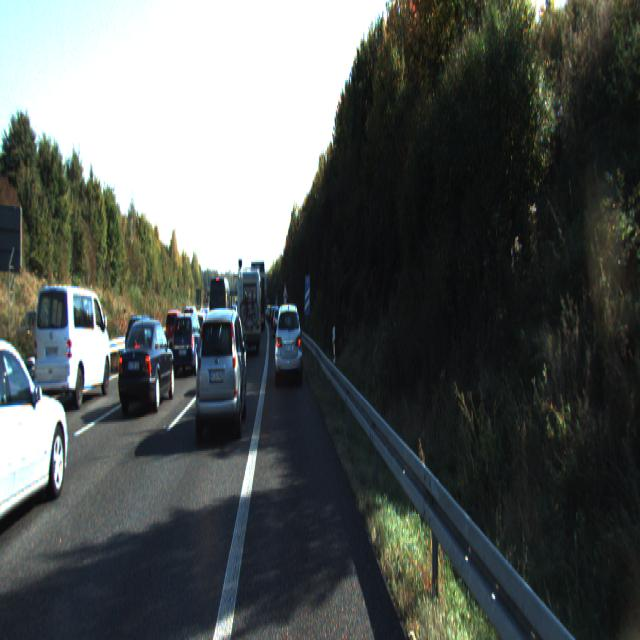Car: (0, 328, 72, 544), (31, 281, 112, 412), (192, 306, 248, 445), (117, 316, 176, 416), (274, 300, 303, 386), (218, 314, 248, 391), (171, 313, 204, 380), (124, 315, 159, 373), (237, 266, 260, 354), (209, 277, 231, 354), (251, 263, 265, 333)
